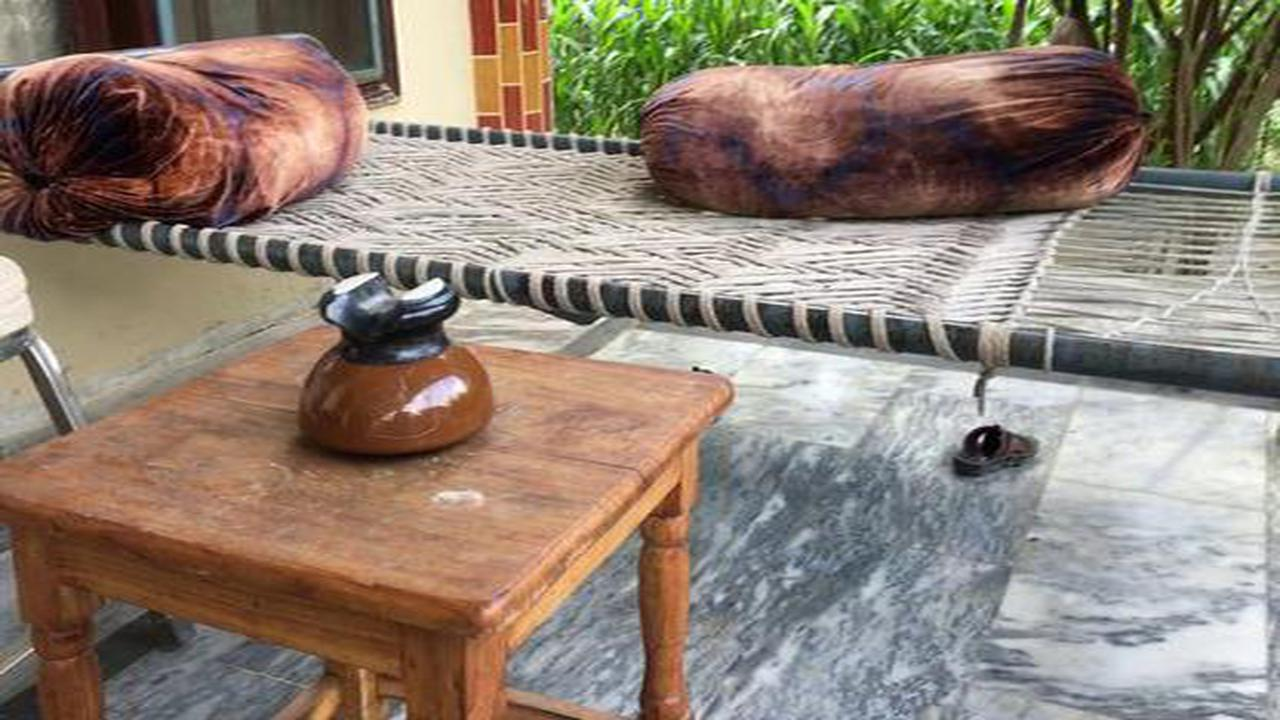insulator_pin: (277, 262, 514, 470)
